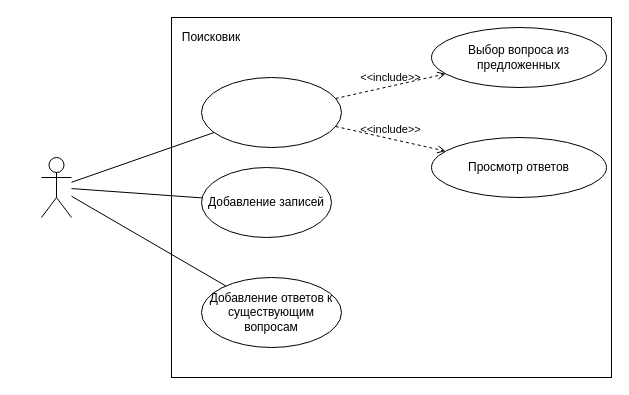
Some shapes in this 629 by 395 pixel diagram are drawn without their labels. Here are the shapes that lost their labels. From the top down, the centre of each, then its label:
At [271,112]: "Поиск".
At [56,187]: "Пользователь".
